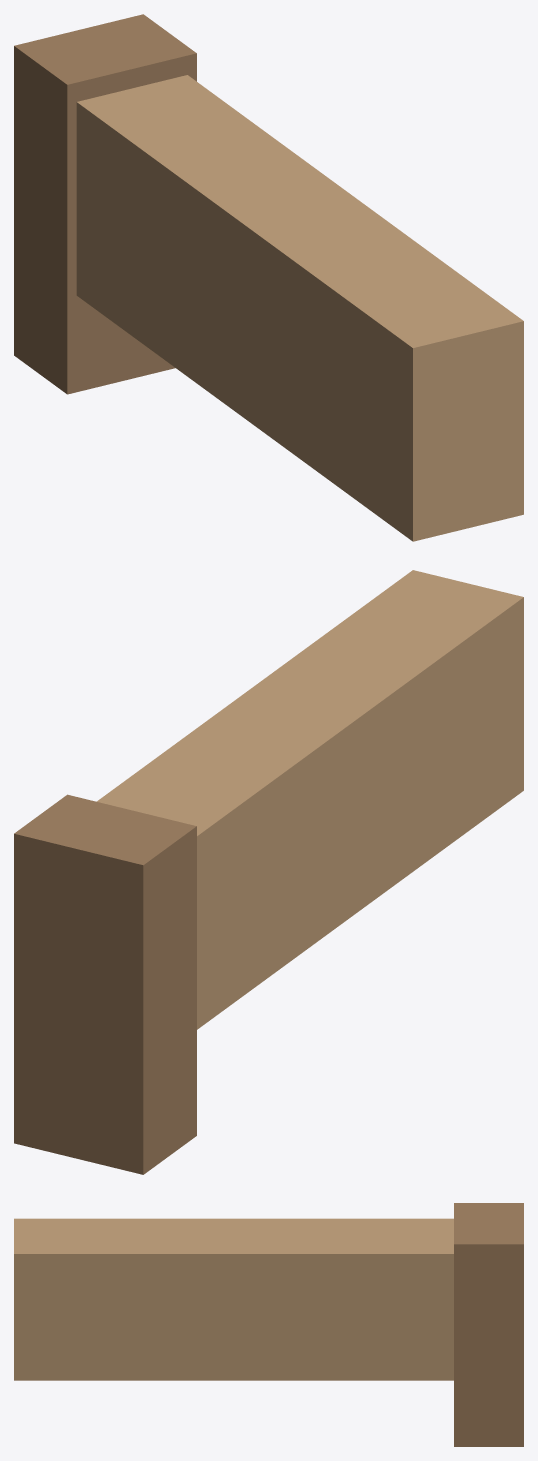
The model's file is AttStock.fbx.
3 views of the same model, one above another, from view 1: azimuth 30°, elevation 25°; view 2: azimuth 150°, elevation 25°; view 3: azimuth 270°, elevation 25° (orthographic). The views are drawn at different scales.
Parts seen in each view (by area): view 1: Body; view 2: Body; view 3: Body.
Part boxes in pixels (box(x1,y1,x2,y2)): Body: box(14, 14, 523, 541); Body: box(14, 570, 523, 1174); Body: box(14, 1203, 523, 1446).
Size of the model in its own units: 0.07 by 0.16 by 0.365.
